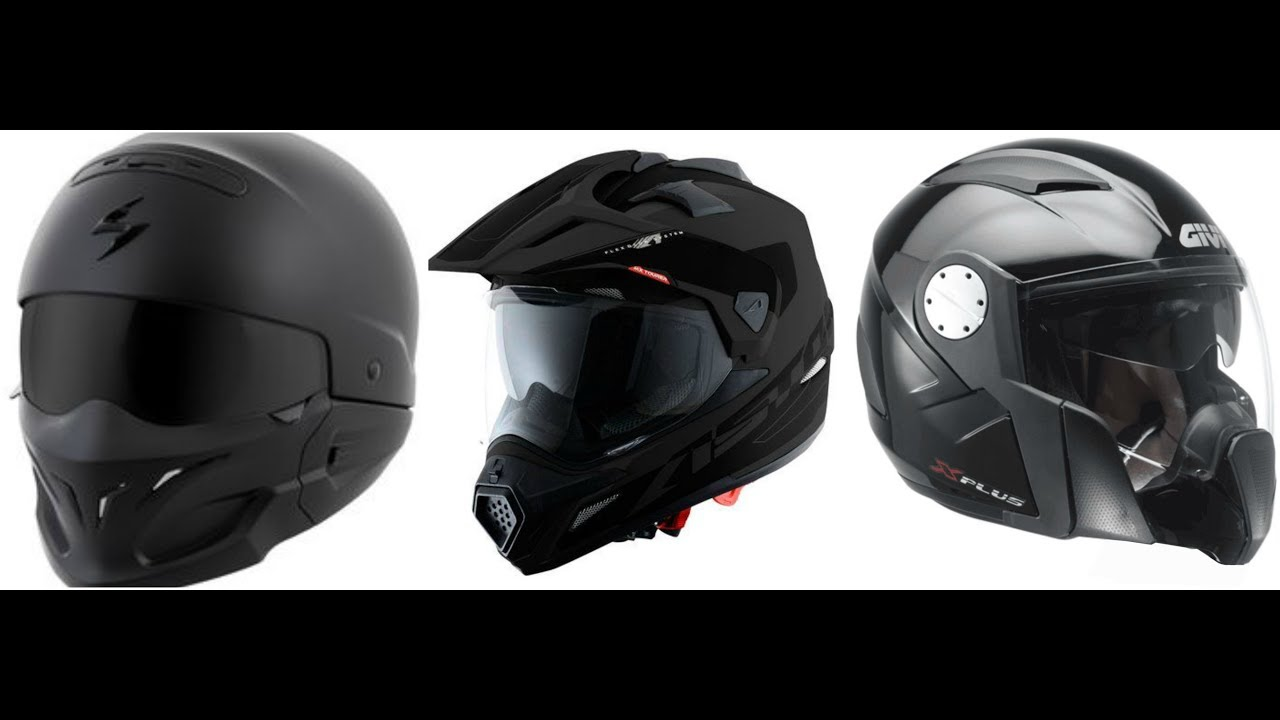with_helmet: (10, 133, 426, 590), (852, 136, 1280, 566), (427, 137, 843, 579)
